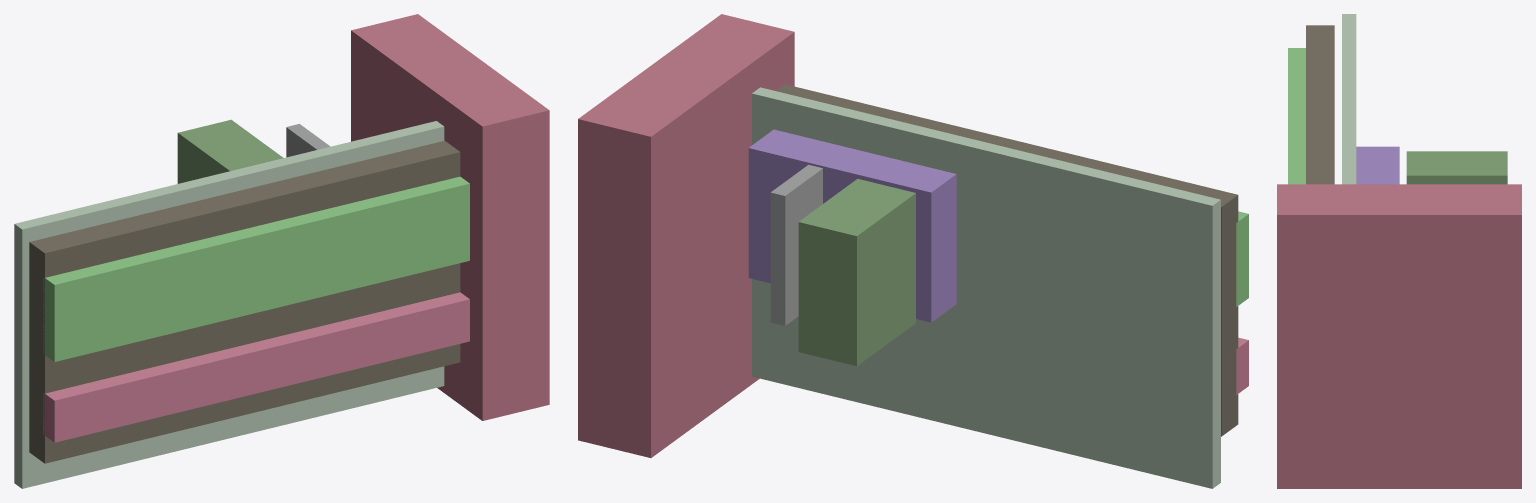
The picture shows the model from 3 angles, left to right: view 1: azimuth 30°, elevation 25°; view 2: azimuth 150°, elevation 25°; view 3: azimuth 270°, elevation 25°; orthographic projection. The views are drawn at different scales.
Visible parts, largest first — view 1: world; view 2: world; view 3: world.
Boxes of the visible parts, x1=… form: world: x1=14, y1=14, x2=549, y2=488; world: x1=578, y1=14, x2=1248, y2=488; world: x1=1277, y1=14, x2=1521, y2=488.
Bounding box in the file's own units: 7.35 × 4.2 × 3.4.
